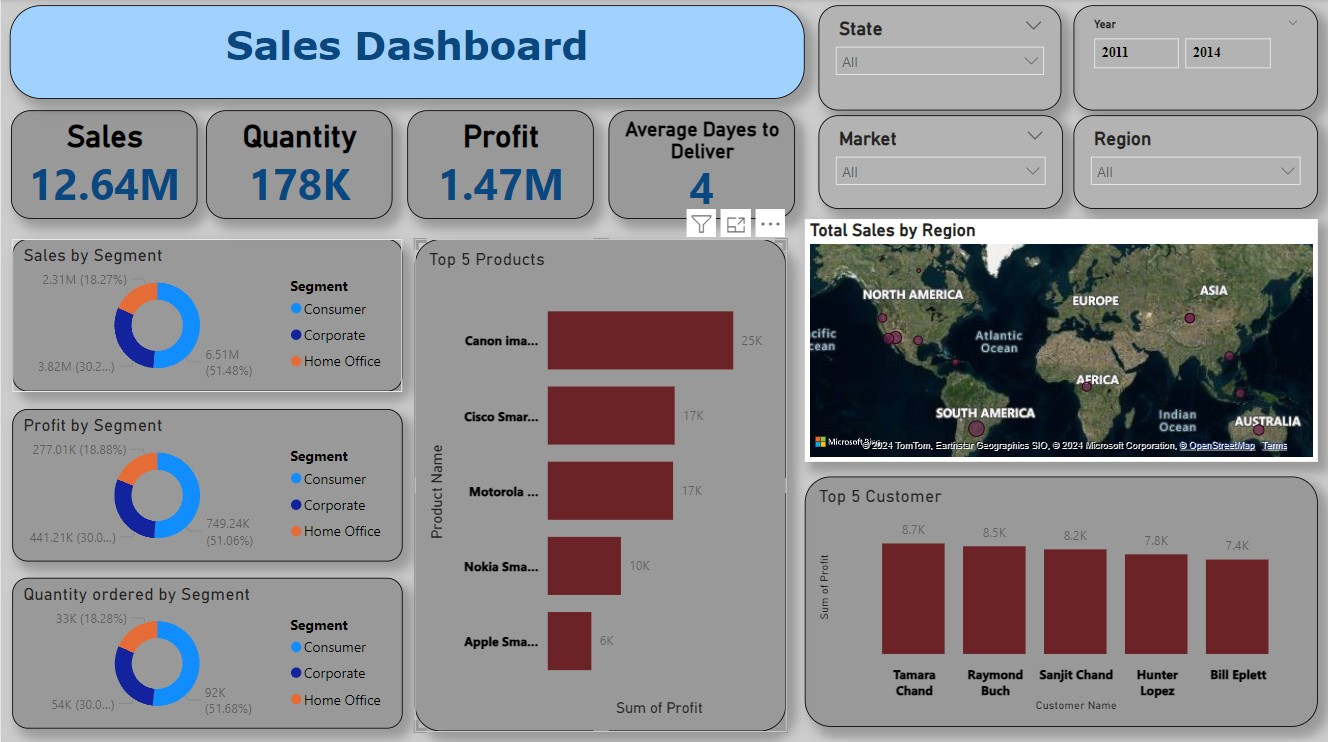

Layout of this report page (visuals, bound fields, positions):
{"tool":"powerbi","page":{"name":"Page 1","canvas":[1280,720],"ordinal":0},"visuals":[{"type":"card","title":"Sales","fields":{"Values":["Orders.Sales"]},"box":[9.7,107.4,179.8,105],"z":0},{"type":"textbox","box":[8.2,5.5,767.1,90.6],"z":1000},{"type":"slicer","fields":{"Values":["Orders.Order Date.Variation.Date Hierarchy.Year"]},"box":[1034.7,5.5,236,101.5],"z":2000},{"type":"slicer","fields":{"Values":["Orders.State"]},"box":[789,5.5,234.6,101.5],"z":3000},{"type":"slicer","fields":{"Values":["Orders.Market"]},"box":[789,112.5,236,90.6],"z":4000},{"type":"slicer","fields":{"Values":["Orders.Region"]},"box":[1034.7,112.5,236,90.6],"z":5000},{"type":"map","title":"Total Sales by Region","fields":{"Category":["Orders.Region"],"Size":["Orders.Sales"]},"box":[775.3,212.7,495.4,234.6],"z":6000},{"type":"barChart","title":"Top 5 Products","fields":{"Category":["Orders.Product Name"],"Y":["Orders.Profit"]},"box":[399.3,231.6,358.3,475.3],"z":7000},{"type":"donutChart","title":"Sales by Segment","fields":{"Y":["Orders.Sales"],"Category":["Orders.Segment"]},"box":[10.9,231.6,376.4,147.2],"z":8000},{"type":"donutChart","title":"Profit by Segment","fields":{"Y":["Orders.Profit"],"Category":["Orders.Segment"]},"box":[10.9,395.7,376.4,147.2],"z":9000},{"type":"donutChart","title":"Quantity ordered by Segment","fields":{"Category":["Orders.Segment"],"Y":["Orders.Quantity"]},"box":[10.9,558.6,376.4,146],"z":10000},{"type":"columnChart","title":"Top 5 Customer","fields":{"Category":["Orders.Customer Name"],"Y":["Orders.Profit"]},"box":[775.3,461.1,495.4,241.5],"z":11000},{"type":"card","title":"Quantity","fields":{"Values":["Orders.Quantity"]},"box":[197.9,107.4,179.8,105],"z":12000},{"type":"card","title":"Profit","fields":{"Values":["Orders.Profit"]},"box":[392.1,107.4,179.8,105],"z":12001},{"type":"card","title":"Average Dayes to Deliver","fields":{"Values":["Orders.Delivery Days"]},"box":[586.3,107.4,179.8,105],"z":12002}]}

Visuals, with their boxes in screenshot pixels (x1, y1, x2, y2), scaled from the page's 1280x720 canvas onto the 1328x742 screenshot:
"Sales" card: [10,111,197,219]
textbox: [9,6,804,99]
slicer - Orders.Order Date.Variation.Date Hierarchy.Year: [1074,6,1318,110]
slicer - Orders.State: [819,6,1062,110]
slicer - Orders.Market: [819,116,1063,209]
slicer - Orders.Region: [1074,116,1318,209]
"Total Sales by Region" map: [804,219,1318,461]
"Top 5 Products" barChart: [414,239,786,728]
"Sales by Segment" donutChart: [11,239,402,390]
"Profit by Segment" donutChart: [11,408,402,559]
"Quantity ordered by Segment" donutChart: [11,576,402,726]
"Top 5 Customer" columnChart: [804,475,1318,724]
"Quantity" card: [205,111,392,219]
"Profit" card: [407,111,593,219]
"Average Dayes to Deliver" card: [608,111,795,219]
